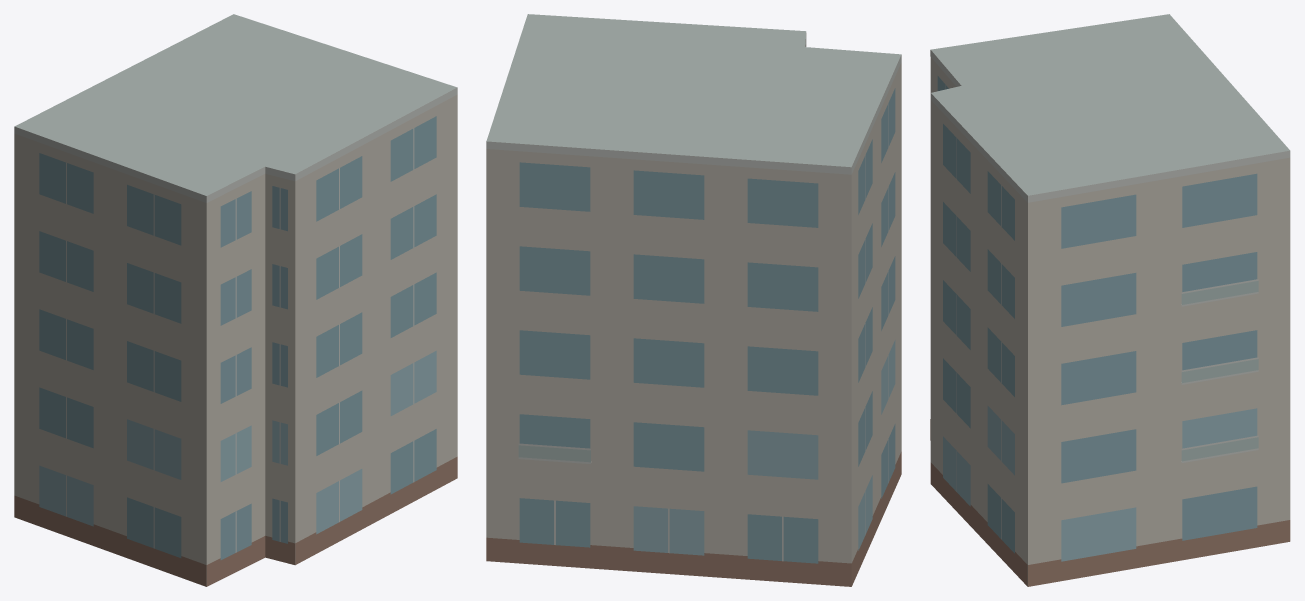
The model's file is survey-upis-32982708.glb.
3 views of the same model, side by side, from view 1: azimuth 30°, elevation 25°; view 2: azimuth 150°, elevation 25°; view 3: azimuth 270°, elevation 25° (orthographic). The views are drawn at different scales.
Visible parts, largest first — view 1: survey-upis-32982708.tmp; view 2: survey-upis-32982708.tmp; view 3: survey-upis-32982708.tmp.
Part boxes in pixels (x1,y1,x2,y2): survey-upis-32982708.tmp: [14, 14, 457, 586]; survey-upis-32982708.tmp: [486, 14, 901, 586]; survey-upis-32982708.tmp: [930, 14, 1290, 586].
Bounding box in the file's own units: 13.62 × 13.65 × 11.39.
